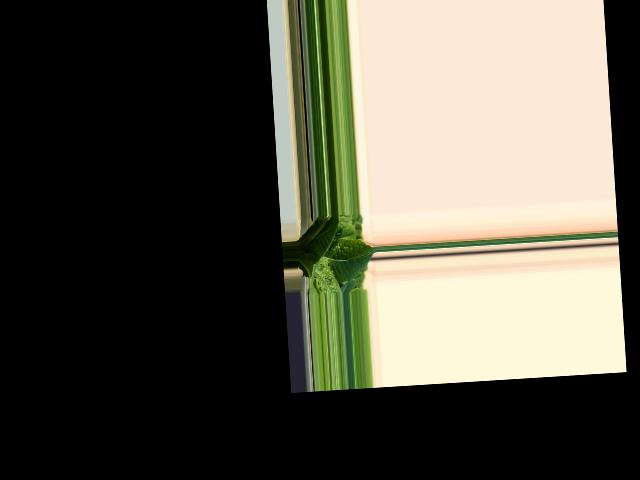lettuce: (294, 214, 370, 287)
